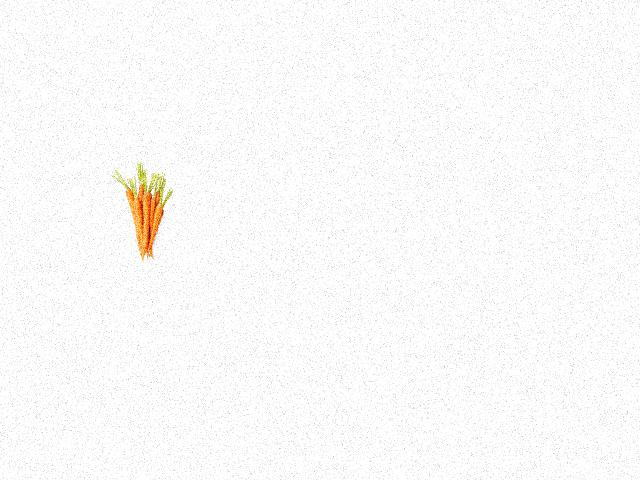carrot: (143, 201, 167, 254)
